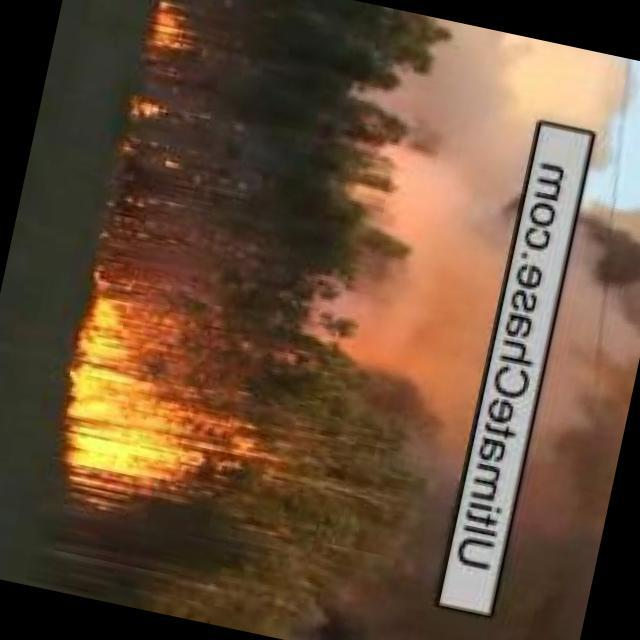Fire: (47, 276, 271, 538), (119, 89, 199, 168), (147, 1, 205, 60)
